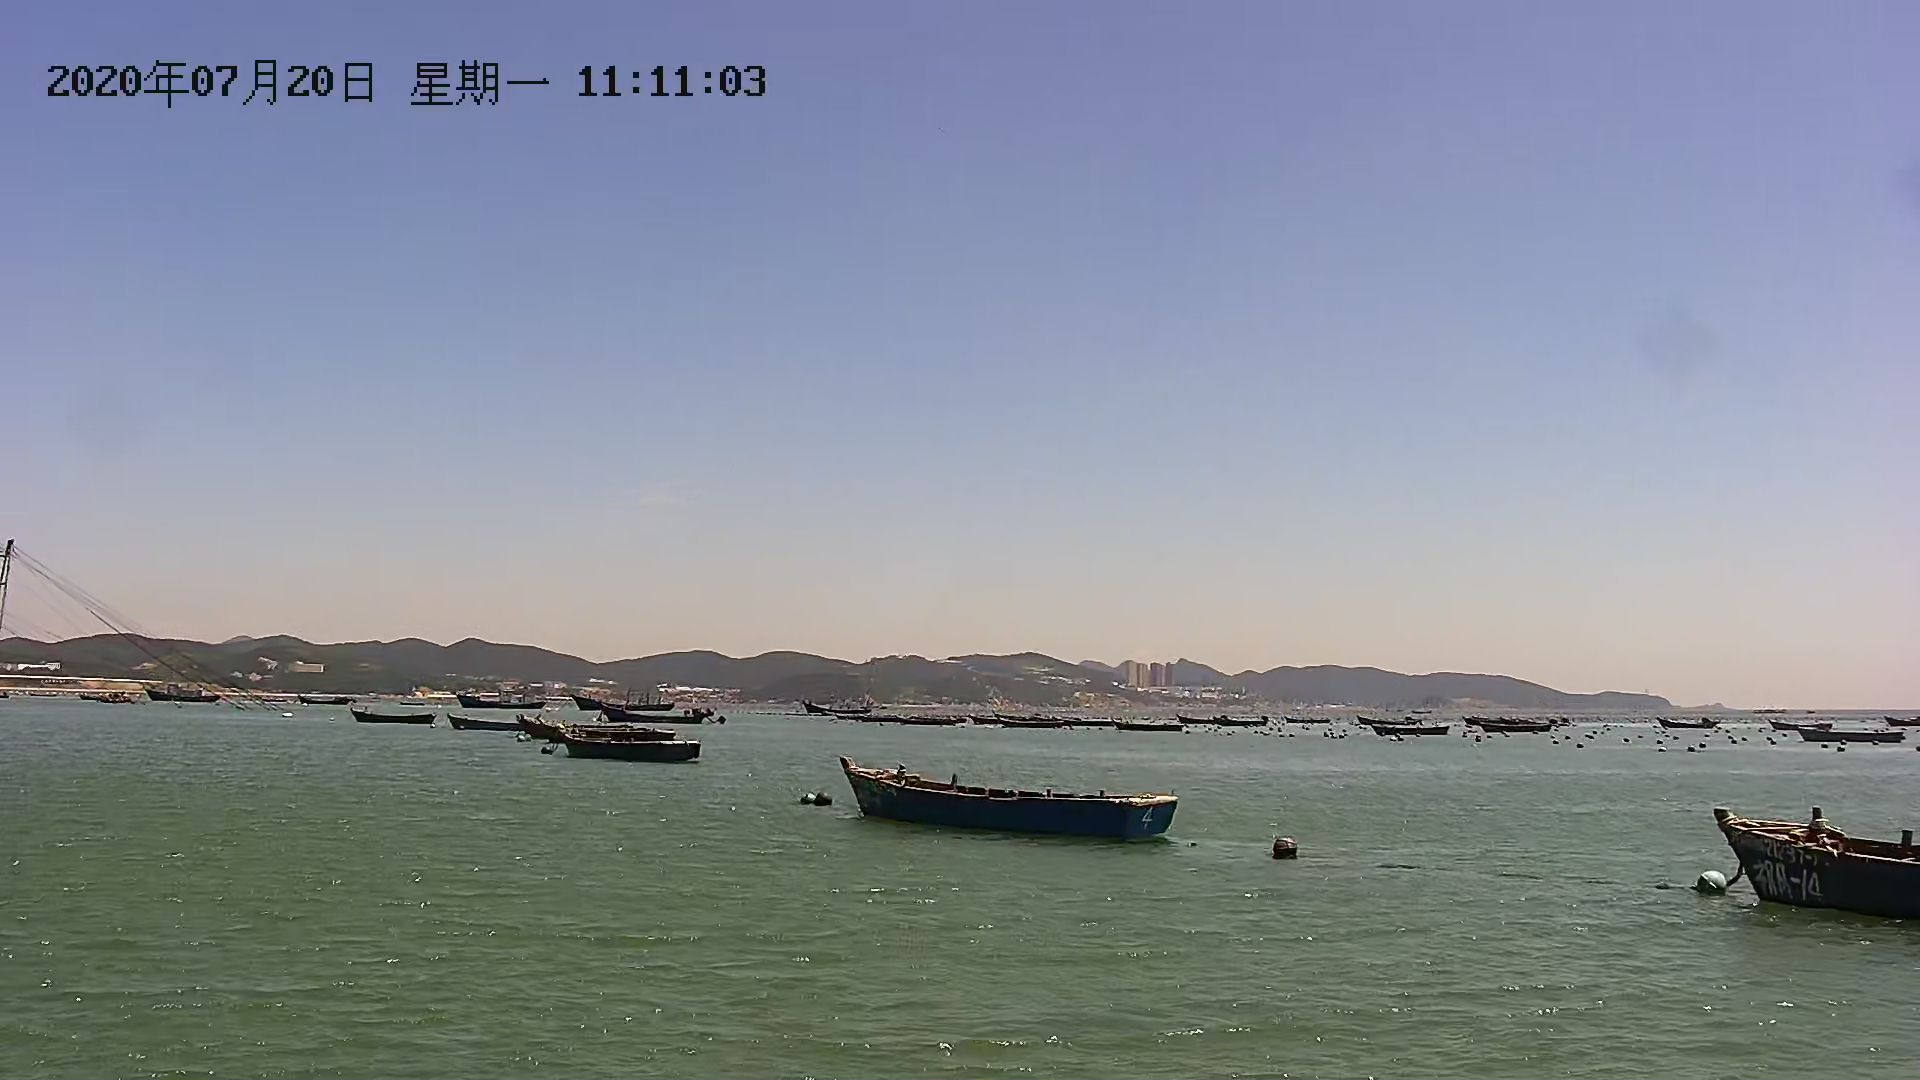ball: (1265, 832, 1304, 856), (1698, 872, 1731, 897), (804, 791, 829, 804)
boat: (837, 760, 1183, 841), (1712, 808, 1920, 911), (543, 725, 704, 761), (580, 688, 713, 723), (1801, 720, 1913, 746), (356, 708, 444, 731), (454, 717, 562, 735), (1374, 723, 1458, 742), (1476, 716, 1564, 735)
